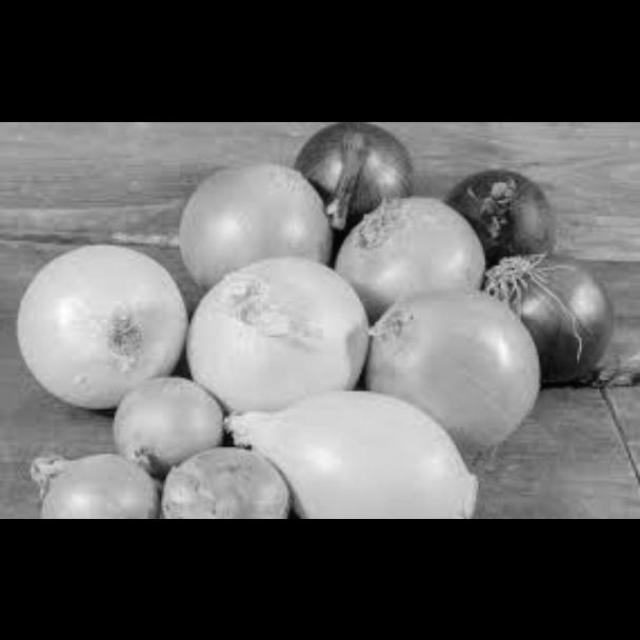onion: (220, 381, 477, 518), (177, 253, 379, 410), (360, 279, 544, 447), (22, 242, 193, 413), (479, 244, 639, 398), (342, 187, 504, 320), (176, 151, 337, 272), (284, 120, 417, 229), (436, 154, 562, 258), (114, 371, 227, 465), (159, 438, 289, 518), (34, 443, 166, 517)
